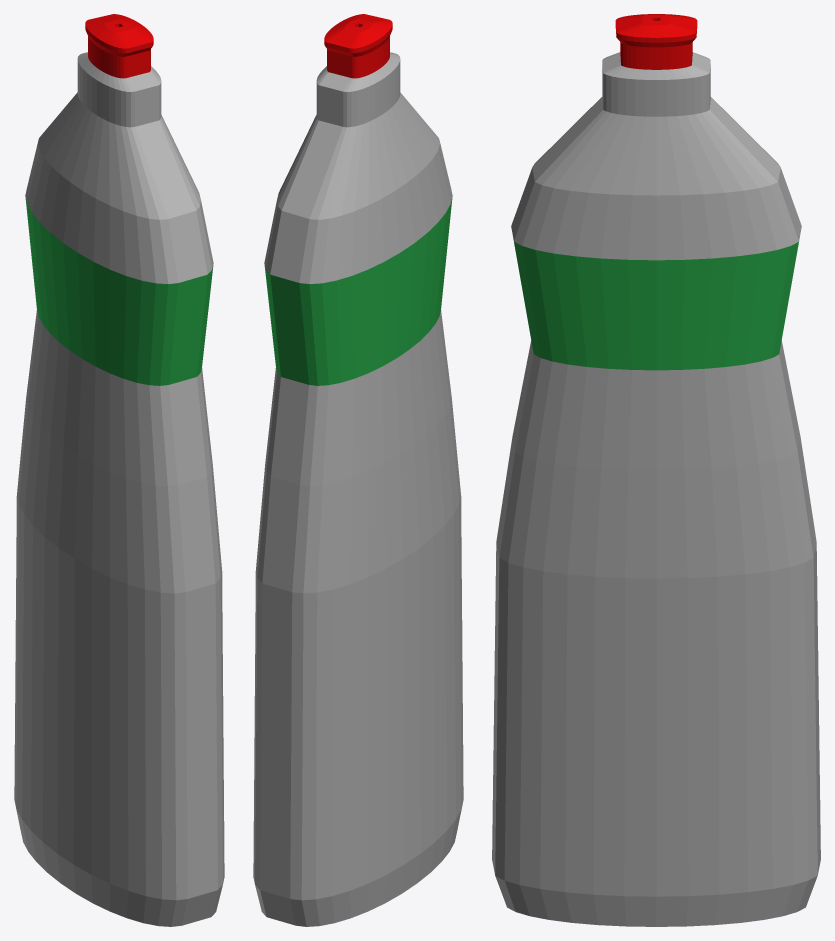
File: Detergent.fbx
3 renders of one model, left to right at view 1: azimuth 30°, elevation 25°; view 2: azimuth 150°, elevation 25°; view 3: azimuth 270°, elevation 25°, orthographic. The views are drawn at different scales.
Parts seen in each view (by area): view 1: Circle; view 2: Circle; view 3: Circle.
Part boxes in pixels (x1=…): Circle: x1=14, y1=14, x2=224, y2=926; Circle: x1=253, y1=14, x2=463, y2=926; Circle: x1=492, y1=14, x2=820, y2=926.
Bounding box in the file's own units: 126 × 818 × 278.
